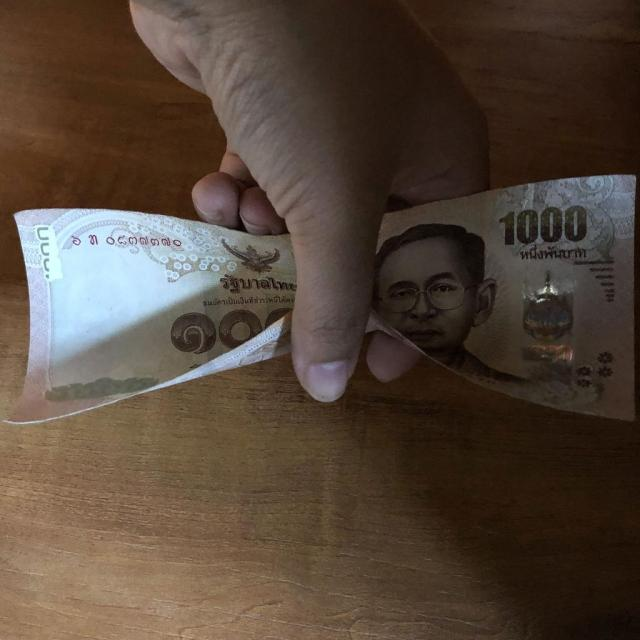THAI1000: (365, 176, 635, 420), (6, 209, 296, 423)
